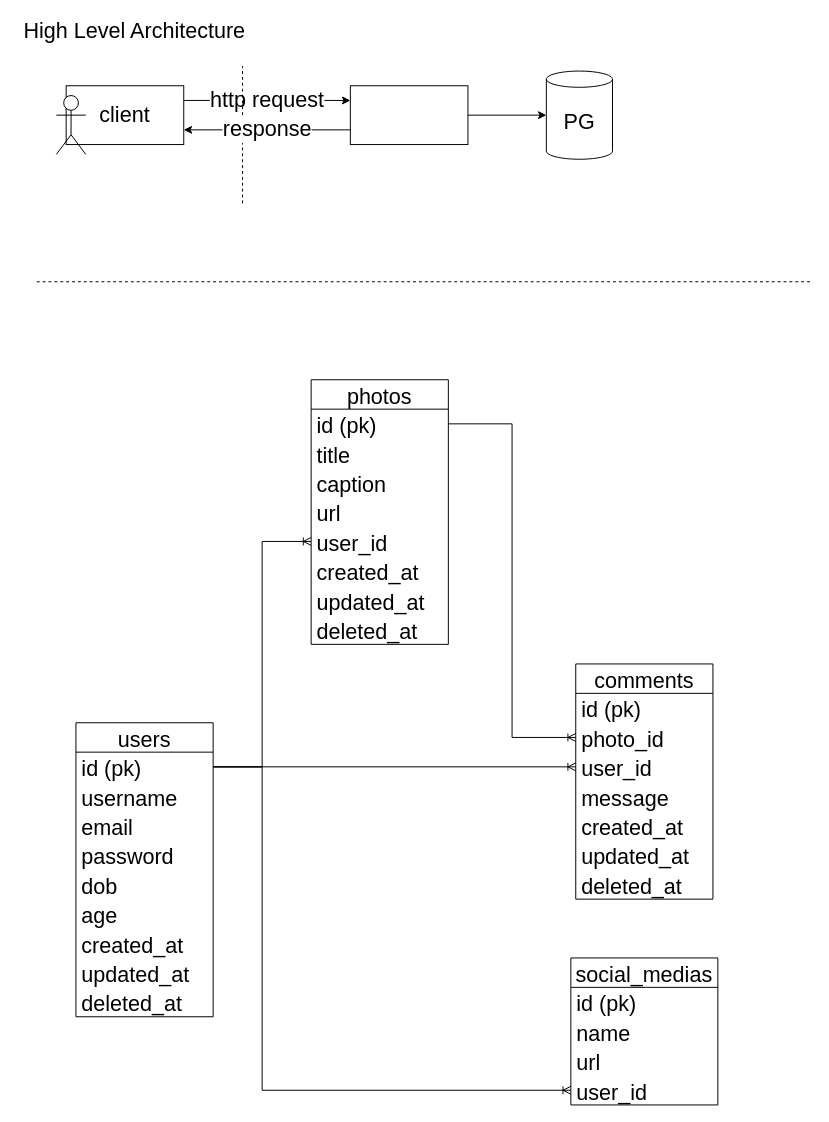
This 829x1122 diagram has some shape labels left out. The centre of each missing label's shape, as x and y in pixels:
Actor: the point at 70,124
MyGram: the point at 408,115
